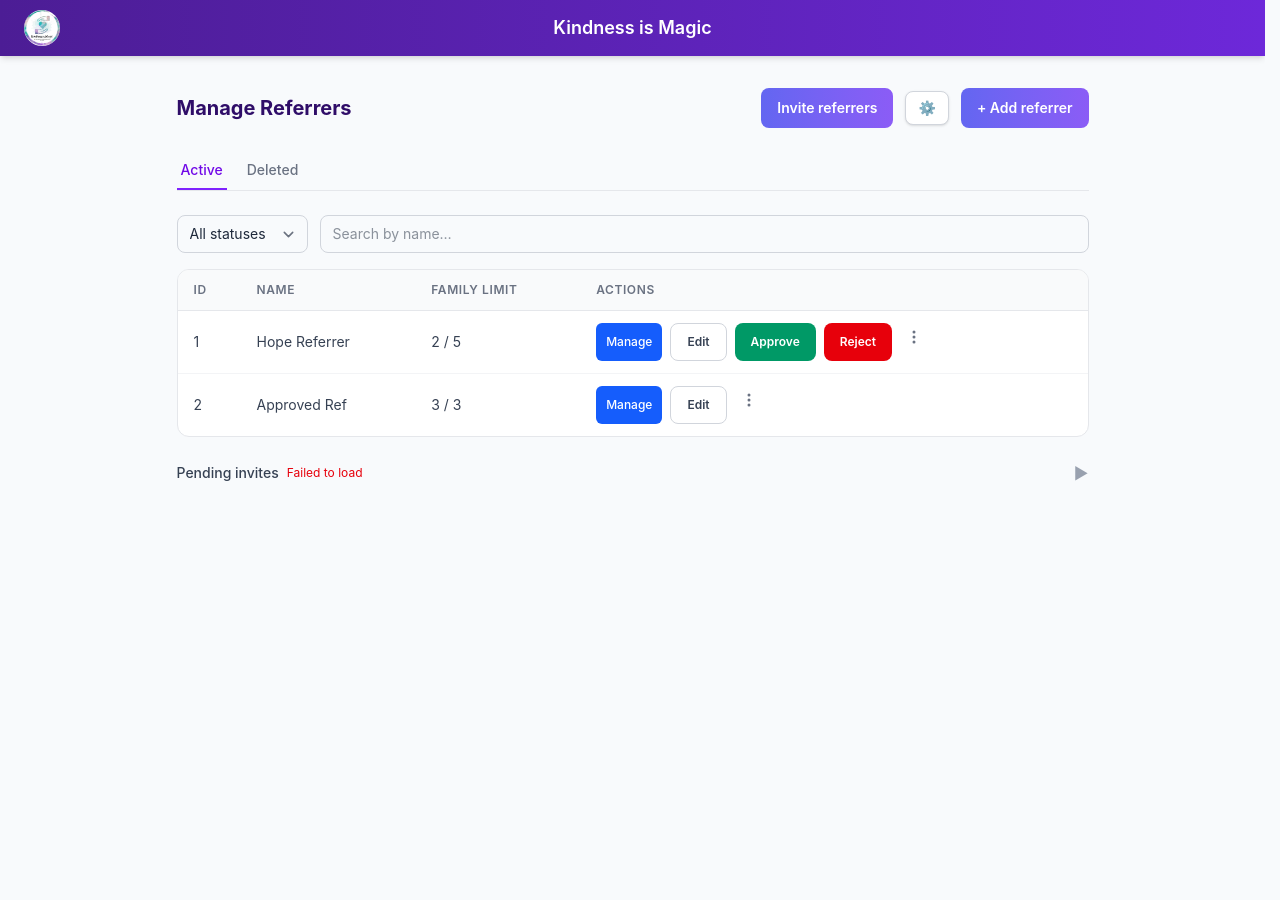
Test: AdminReferrers › toggles the invite code generator inline (no navigation)
The image size is (1280, 900).
Expected: the text "Hope Referrer" is shown, [240,310,415,374]
Expected: the heading "Generate Invite Code" is not shown
Click the button "Invite referrers" at [827, 108], box [761,88,893,128]
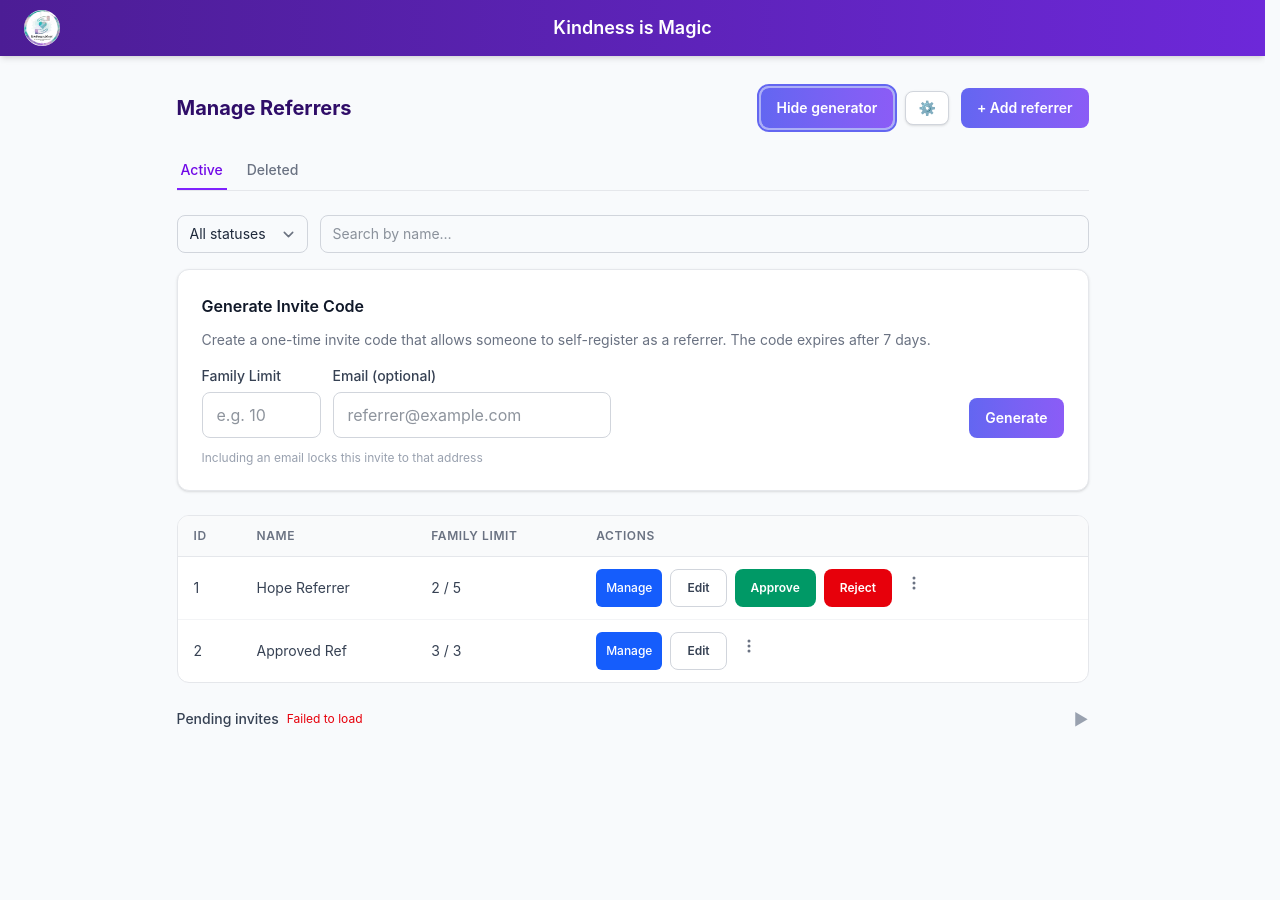
Result: the heading "Generate Invite Code" is shown at [202,296,364,316]
Result: the button "Hide generator" is shown
Click the button "Hide generator" at [827, 108], box [760,88,893,128]
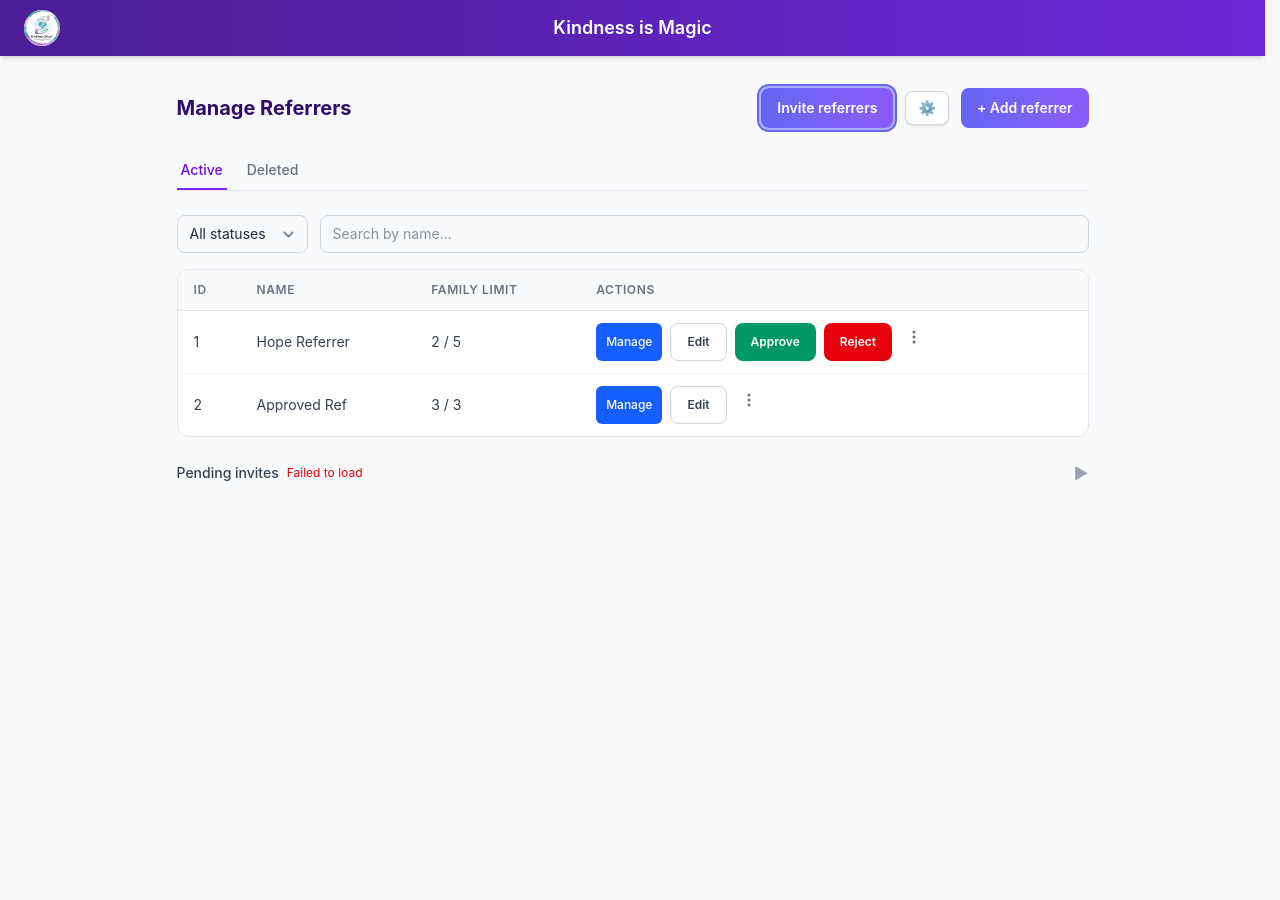
Result: the heading "Generate Invite Code" is gone
Result: the button "Invite referrers" is shown at [761,88,893,128]
